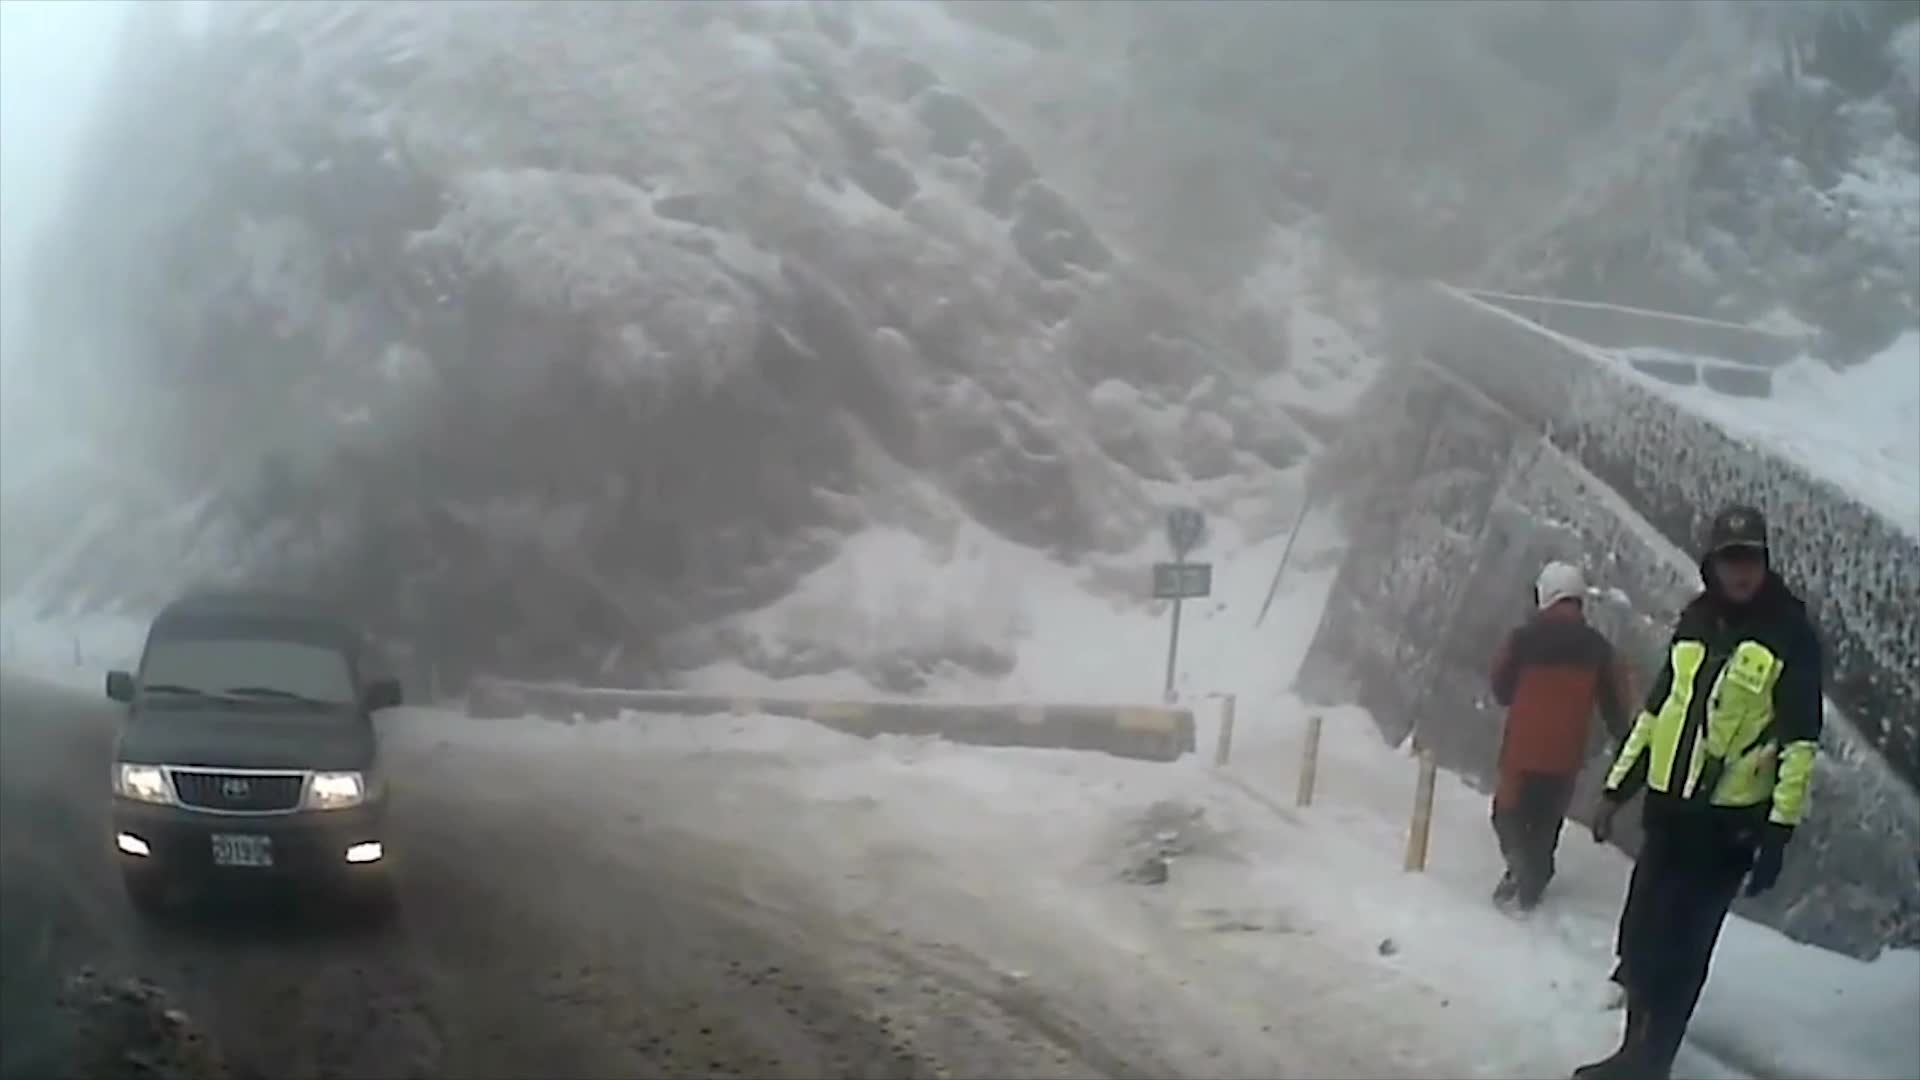pedestrian: (1569, 504, 1822, 1080), (1488, 559, 1627, 917)
vehicle: (101, 586, 401, 923)
